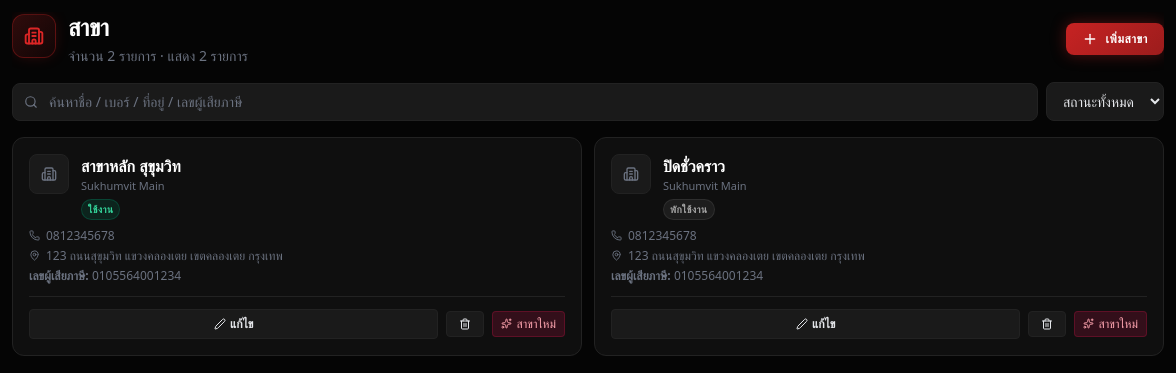
Test case: BranchesTab — BT1..BT6 › BT4: status filter hides non-matching
The image size is (1176, 373).
Expected: the heading "สาขาหลัก สุขุมวิท" is shown, [81,154,181,178]
Step 1. Select "พักใช้งาน" in the dropdown showing "สถานะทั้งหมด" → (1105, 102), box [1046,82,1164,121]
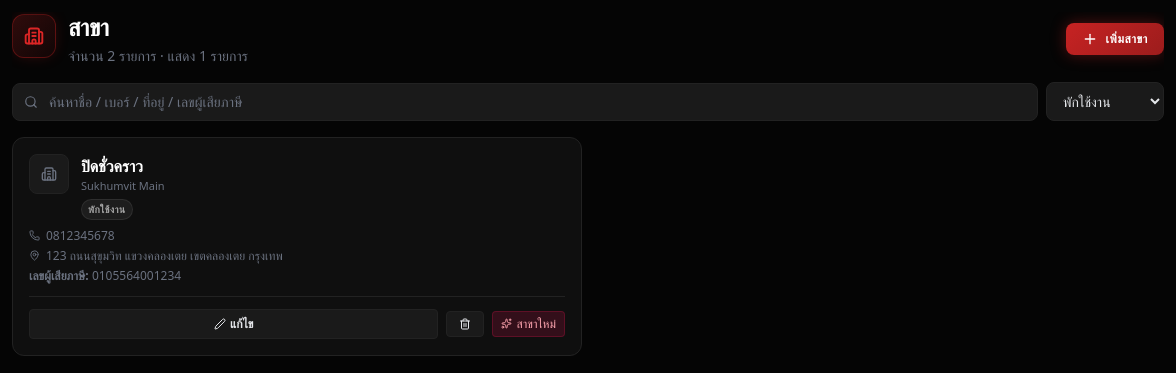
Expected: the heading "ปิดชั่วคราว" is shown, [81,154,143,178]
Expected: the heading "สาขาหลัก สุขุมวิท" is gone
